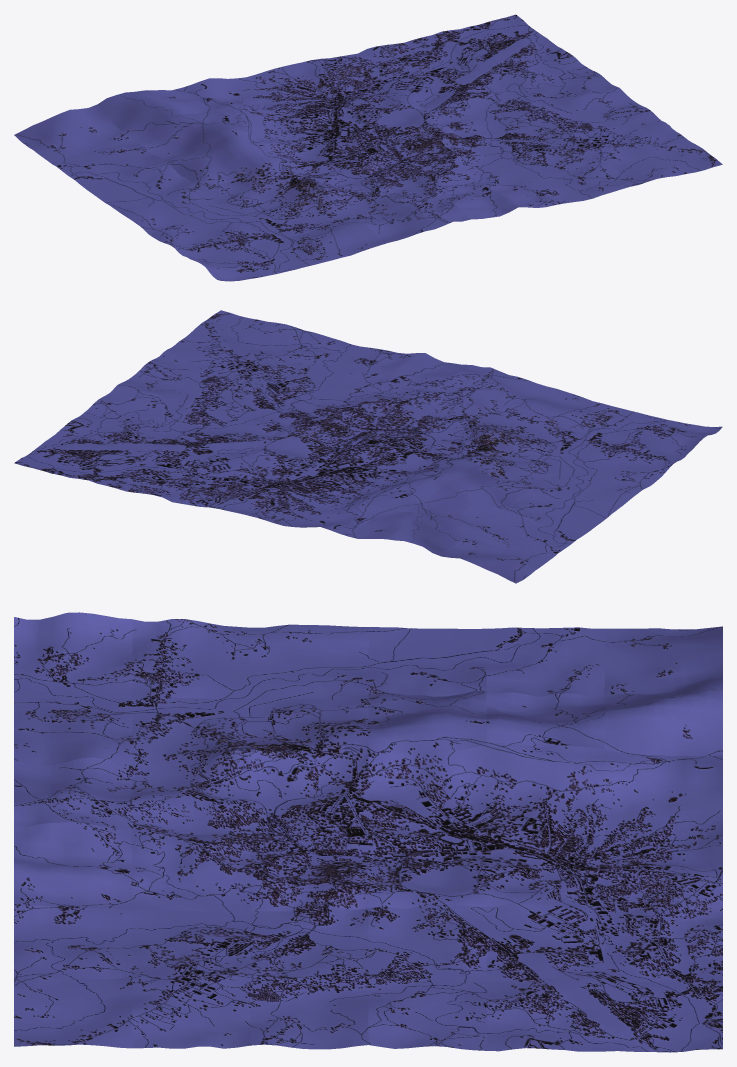
File: all_ground.glb
The picture shows the model from 3 angles, top to bottom: view 1: azimuth 30°, elevation 25°; view 2: azimuth 150°, elevation 25°; view 3: azimuth 270°, elevation 25°; orthographic projection. The views are drawn at different scales.
Visible parts, largest first — view 1: ground_5_5; view 2: ground_5_5; view 3: ground_5_5.
Boxes of the visible parts, <box> form: ground_5_5: <box>14,14,722,281</box>; ground_5_5: <box>14,310,722,583</box>; ground_5_5: <box>14,612,722,1052</box>.
Size of the model in its own units: 7223 by 296 by 5160.
Materials: 1 (1 with a texture image).
